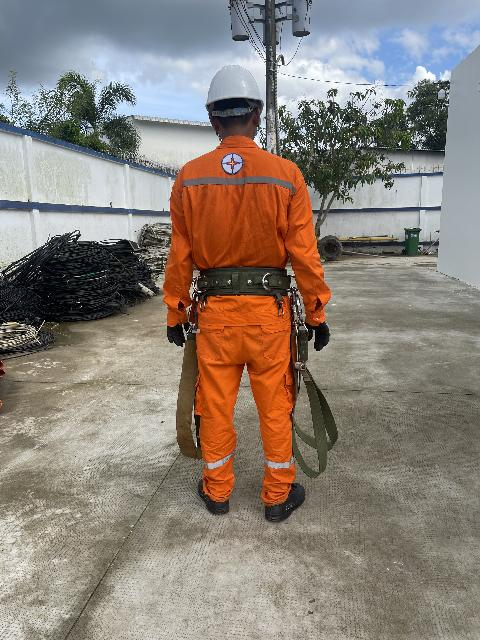gloves: (158, 306, 199, 354), (303, 312, 342, 355)
harness: (177, 251, 310, 314)
helmet: (184, 60, 278, 119)
shoes: (254, 477, 316, 526), (194, 467, 235, 520)
